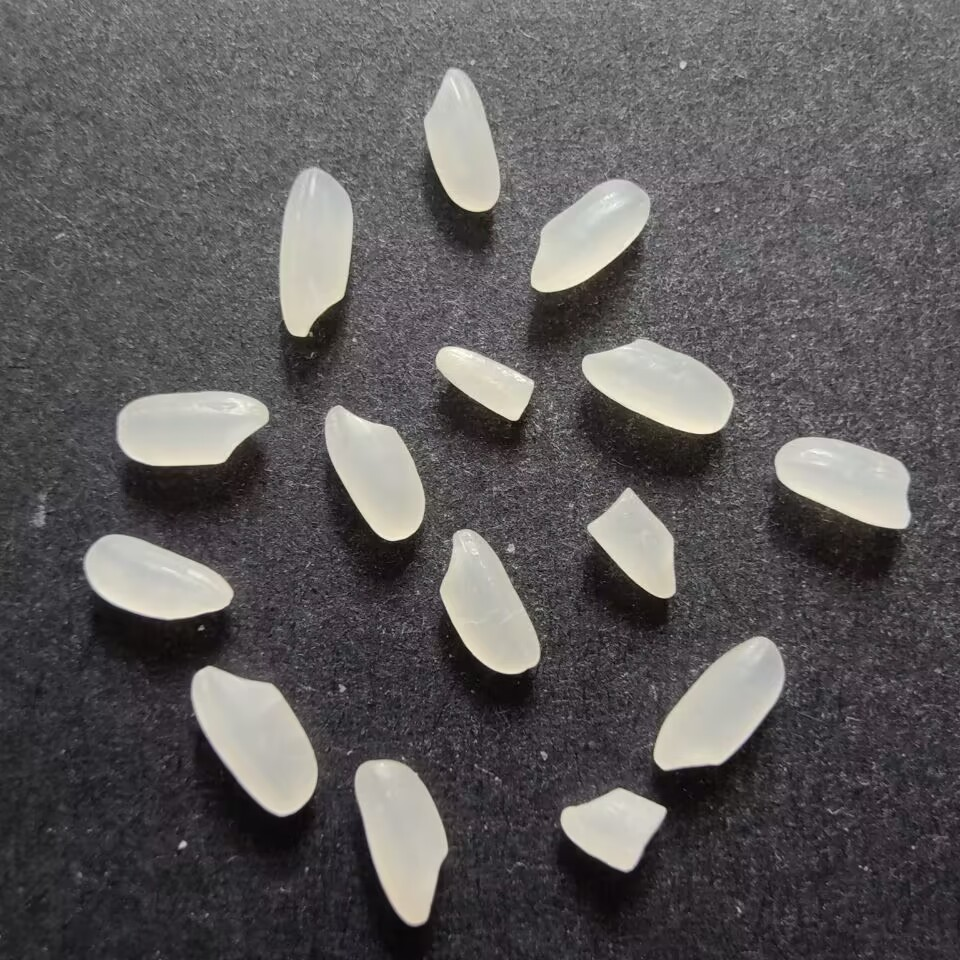broken: (581, 482, 684, 601), (556, 783, 668, 878), (431, 342, 539, 426)
rice: (190, 662, 322, 819), (649, 632, 790, 777), (349, 755, 454, 931), (570, 336, 738, 439), (431, 527, 543, 679), (320, 402, 430, 546), (525, 176, 654, 296), (770, 432, 917, 531), (275, 163, 354, 340), (80, 533, 235, 623), (415, 63, 504, 217), (115, 388, 274, 470)
